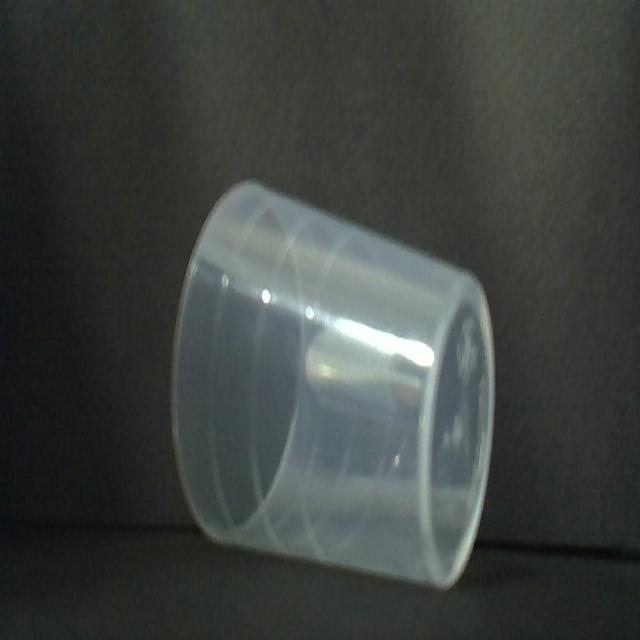cup: (167, 171, 500, 595)
